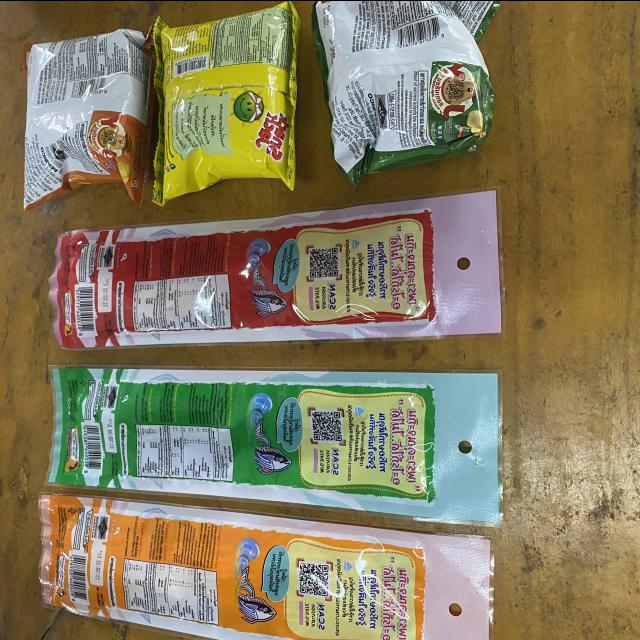plastik: (48, 366, 502, 524), (50, 190, 502, 347), (39, 494, 492, 640), (314, 0, 500, 182), (153, 0, 301, 205), (24, 28, 153, 209)
